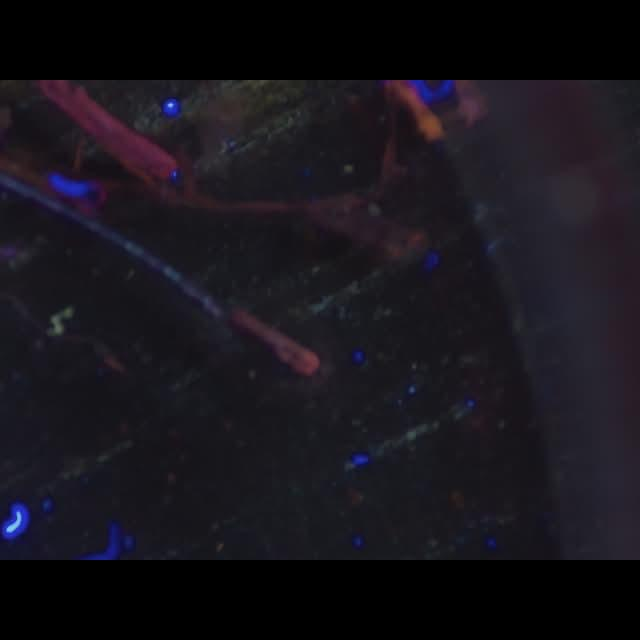Fibre: (44, 305, 74, 339)
